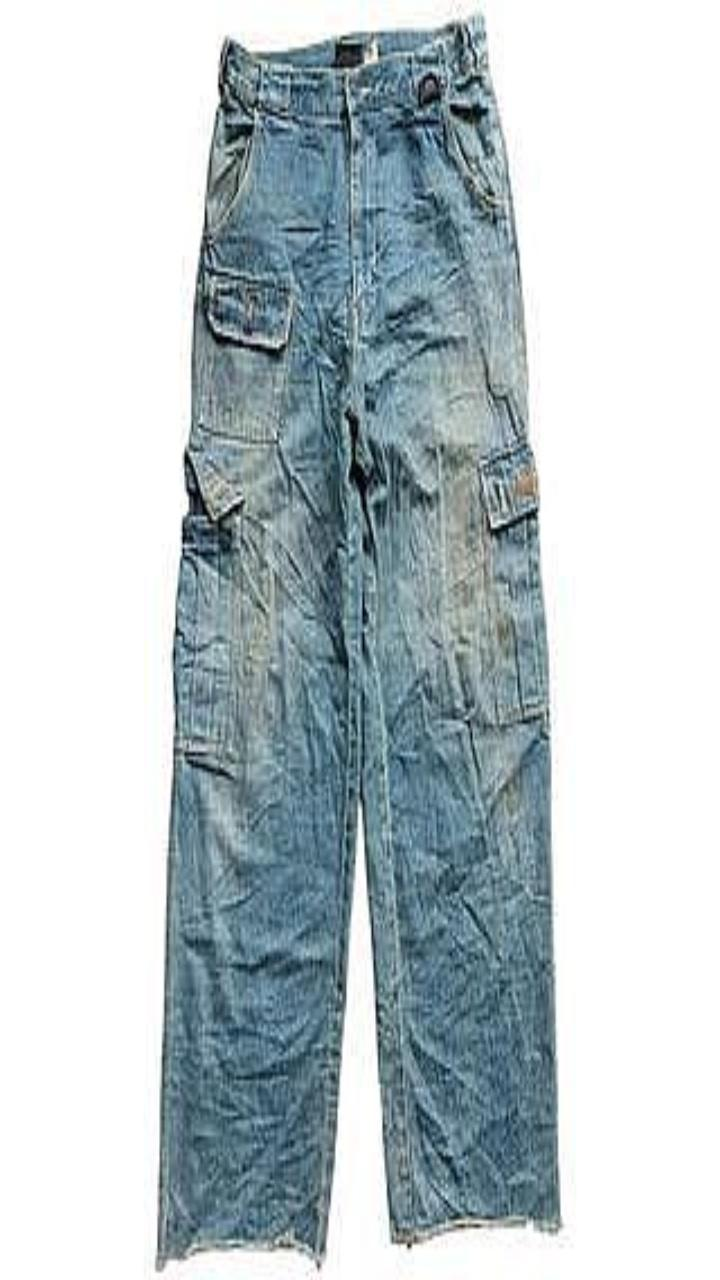Jeans: (157, 13, 559, 1266)
